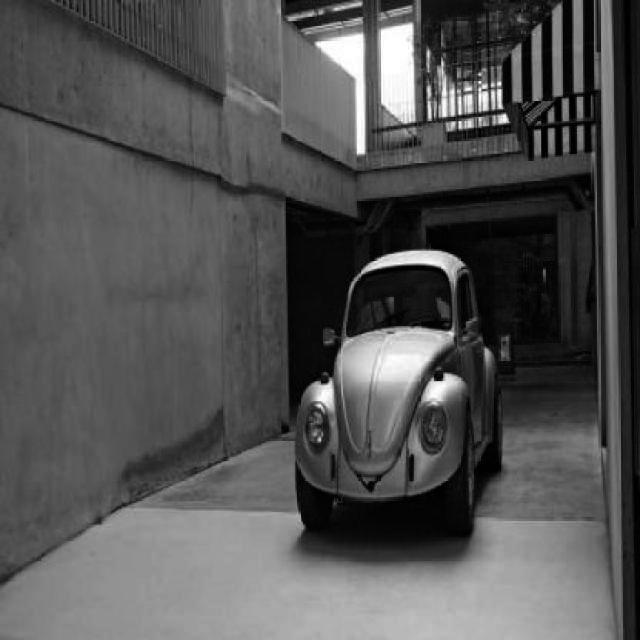car: (294, 251, 505, 544)
